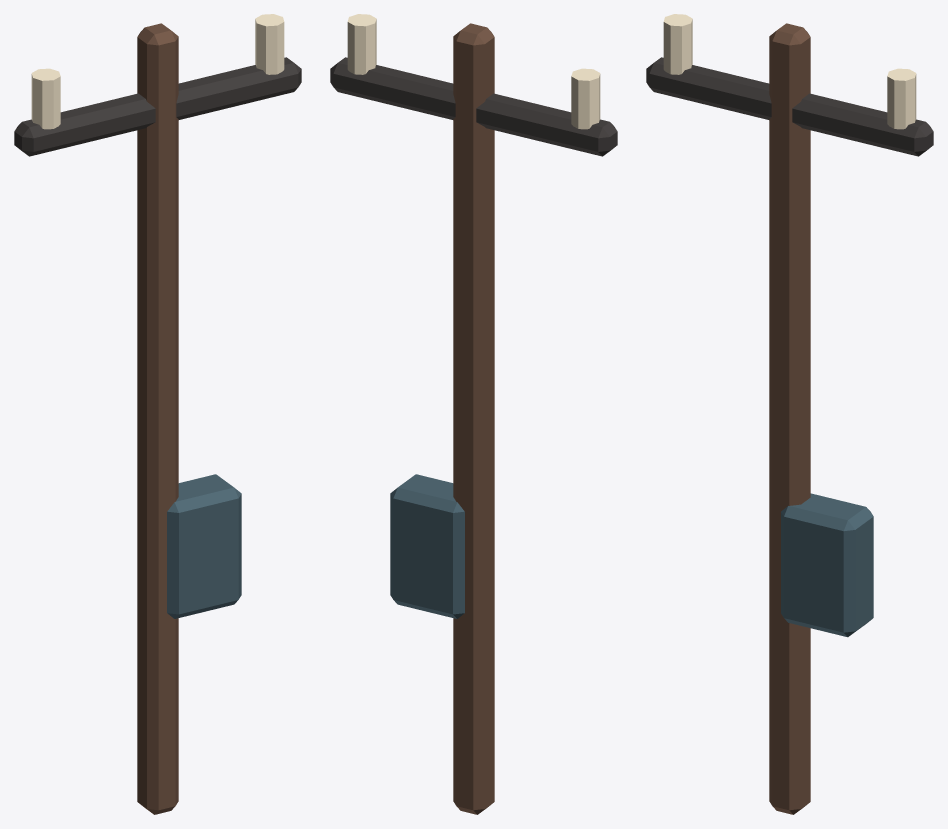
The model's file is utility-pole.glb.
3 views of the same model, side by side, from view 1: azimuth 30°, elevation 25°; view 2: azimuth 150°, elevation 25°; view 3: azimuth 330°, elevation 25° (orthographic).
Parts seen in each view (by area): view 1: utility-post, junction-box, utility-crossarm, insulator, insulator.002; view 2: utility-post, junction-box, utility-crossarm, insulator, insulator.002; view 3: utility-post, junction-box, utility-crossarm, insulator, insulator.002.
Part boxes in pixels (left/top/right/bottom): utility-post: left=137, top=23, right=178, bottom=814; junction-box: left=167, top=474, right=241, bottom=618; utility-crossarm: left=14, top=57, right=301, bottom=156; insulator: left=31, top=68, right=60, bottom=129; insulator.002: left=255, top=14, right=284, bottom=74; utility-post: left=453, top=23, right=494, bottom=814; junction-box: left=390, top=474, right=464, bottom=618; utility-crossarm: left=330, top=57, right=617, bottom=156; insulator: left=571, top=68, right=600, bottom=129; insulator.002: left=347, top=14, right=376, bottom=74; utility-post: left=769, top=23, right=810, bottom=814; junction-box: left=781, top=493, right=873, bottom=637; utility-crossarm: left=646, top=57, right=933, bottom=156; insulator: left=663, top=14, right=692, bottom=74; insulator.002: left=887, top=68, right=916, bottom=129.
Bounding box in the file's own units: 1.5 × 4 × 0.25.
